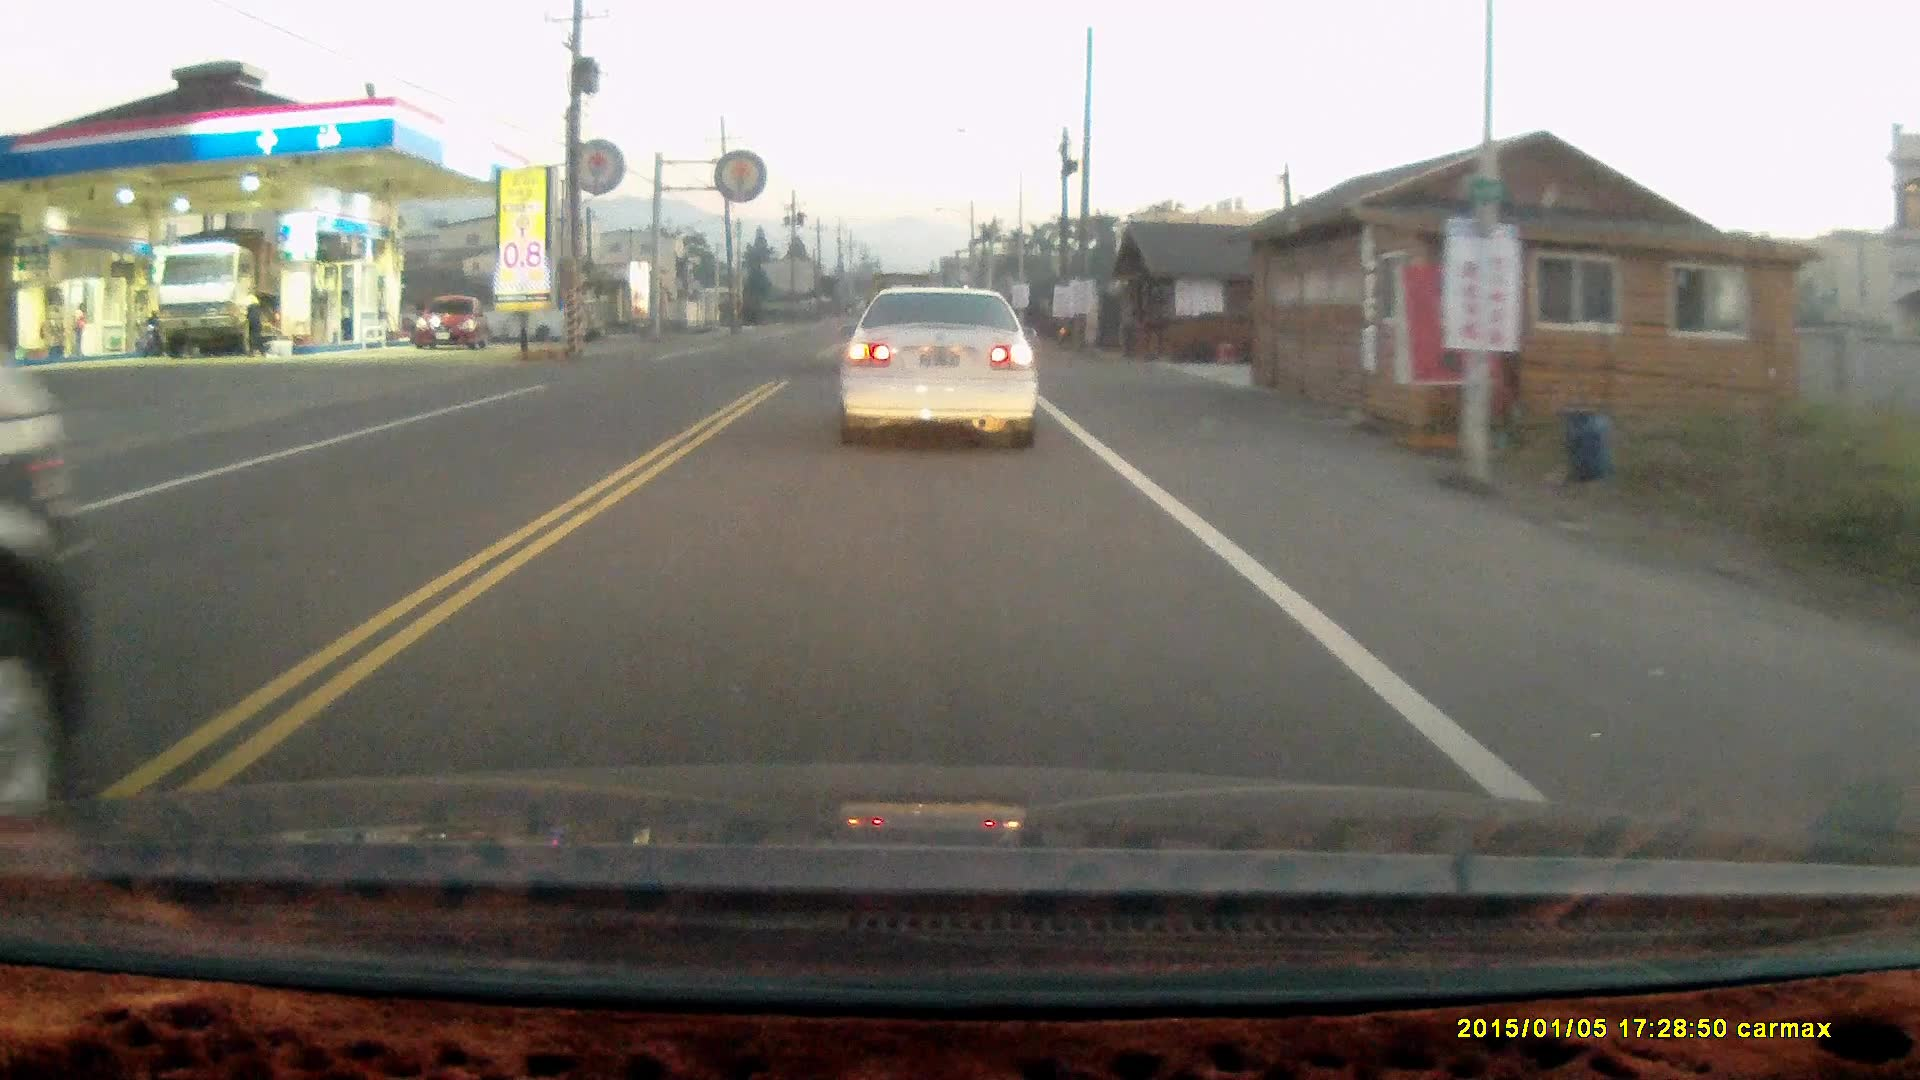pedestrian: (237, 283, 265, 354)
vehicle: (1, 364, 98, 847), (839, 280, 1045, 454), (153, 234, 277, 358), (414, 299, 493, 352)
